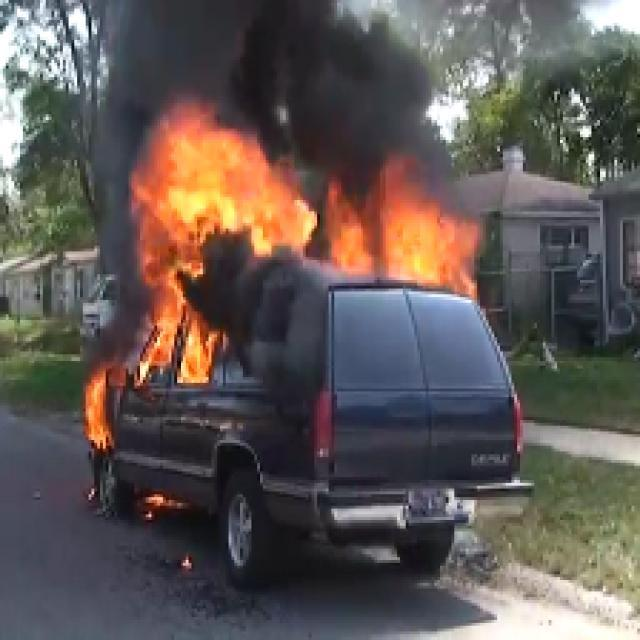Fire: (154, 160, 468, 341)
Smoke: (122, 8, 376, 109), (98, 109, 128, 284)
